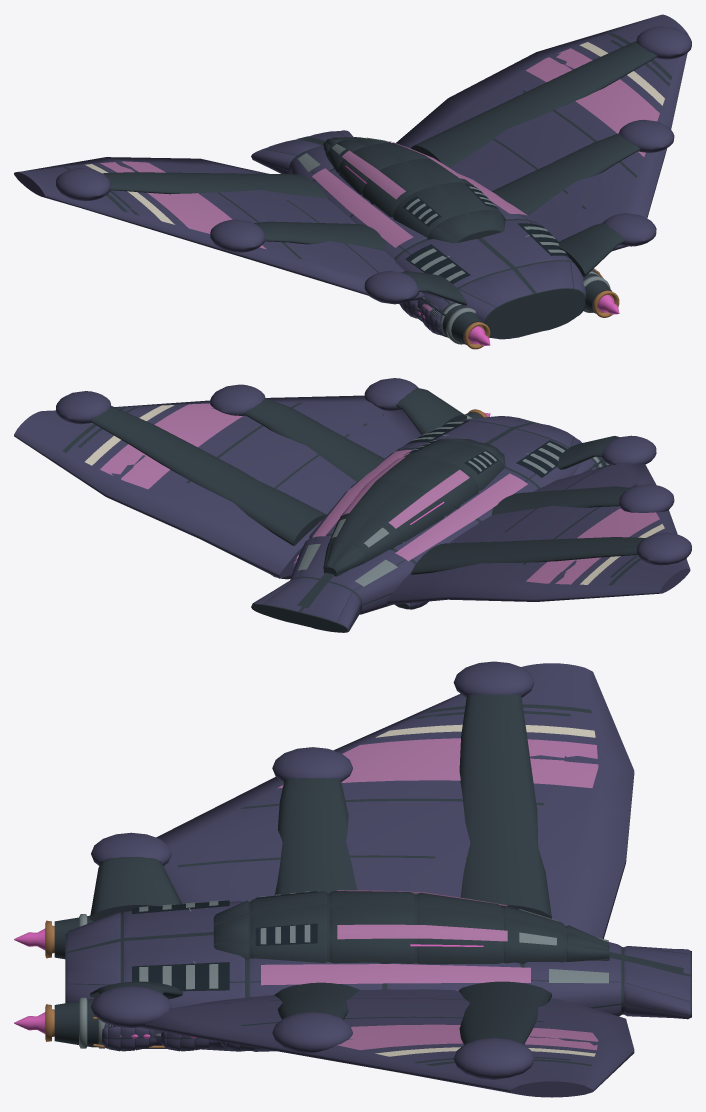
The model's file is nyx.glb.
3 views of the same model, one above another, from view 1: azimuth 30°, elevation 25°; view 2: azimuth 150°, elevation 25°; view 3: azimuth 270°, elevation 25° (orthographic). The views are drawn at different scales.
Parts seen in each view (by area): view 1: nyx; view 2: nyx; view 3: nyx.
Part boxes in pixels (left/top/right/bottom): nyx: left=14, top=14, right=691, bottom=349; nyx: left=14, top=378, right=691, bottom=632; nyx: left=14, top=661, right=691, bottom=1097.
Bounding box in the file's own units: 120 × 22.2 × 82.24.
